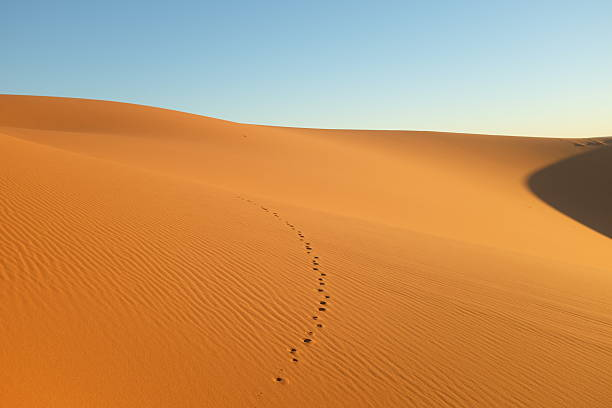animal_footprint: (238, 196, 313, 254)
